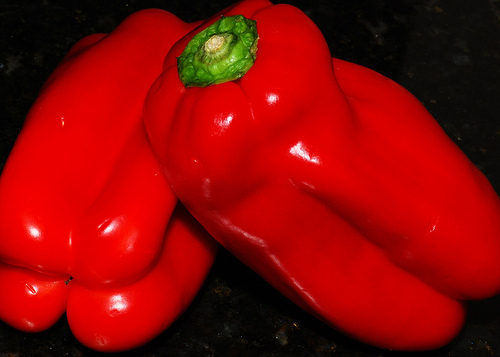capsicum: (141, 0, 499, 352), (0, 8, 221, 349)
